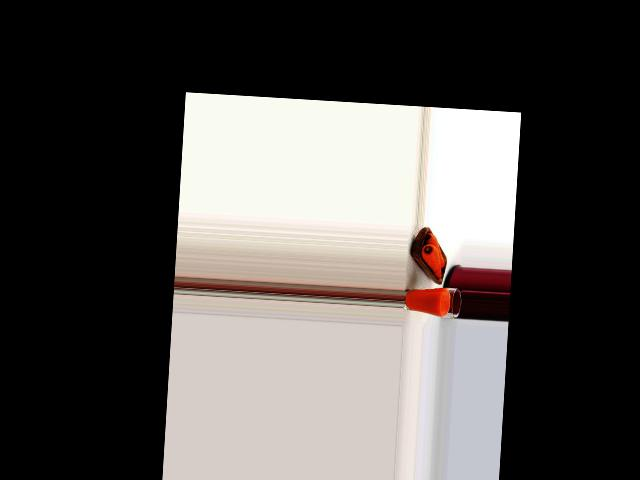carrot: (421, 231, 446, 264)
